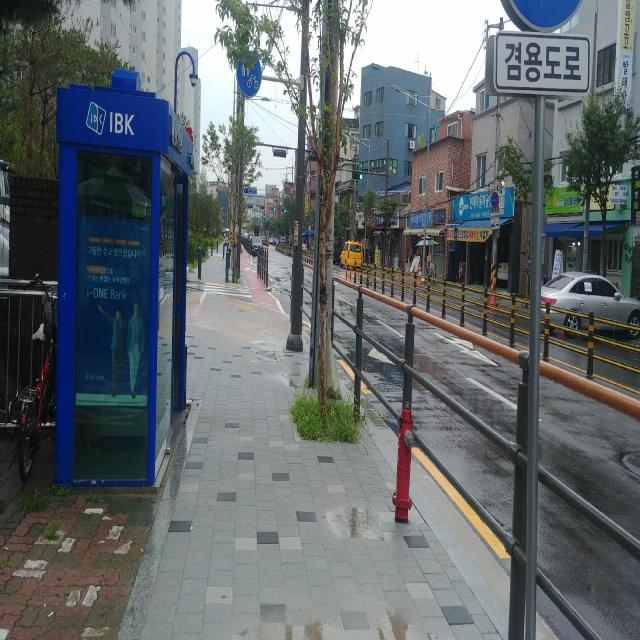횡단보도: (202, 282, 253, 299)
